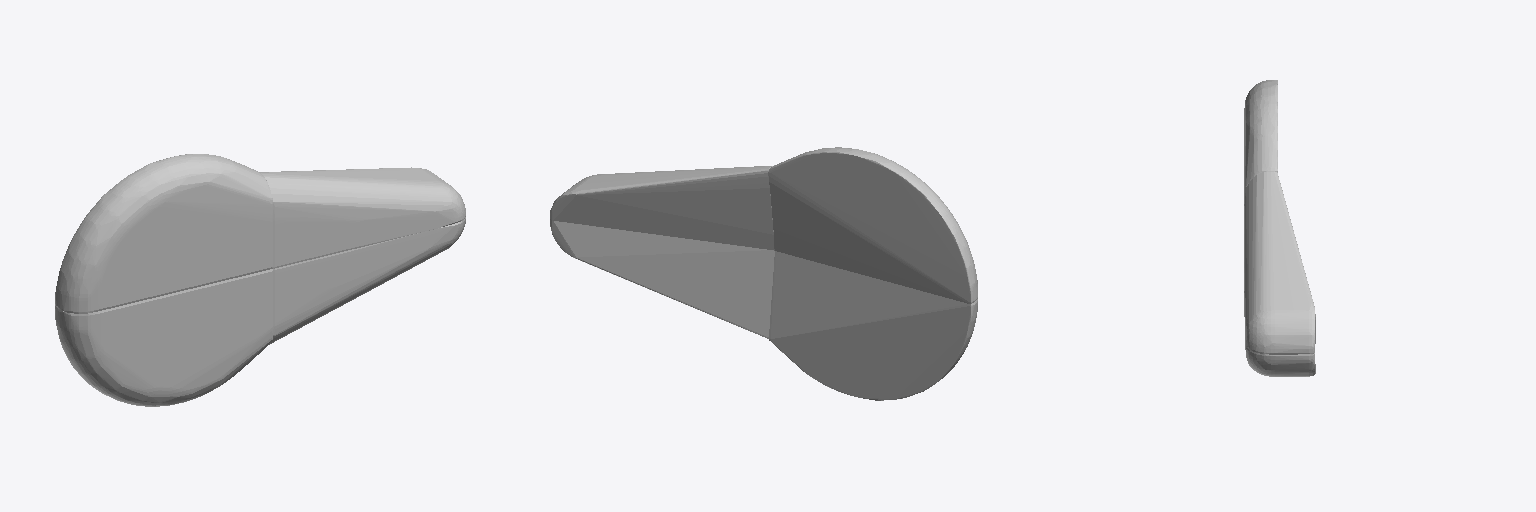
File: toe-output_split.obj
The picture shows the model from 3 angles: view 1: azimuth 30°, elevation 25°; view 2: azimuth 150°, elevation 25°; view 3: azimuth 270°, elevation 25°; orthographic projection.
Parts seen in each view (by area): view 1: geometry_1, geometry_0, geometry_3, geometry_2; view 2: geometry_1, geometry_0, geometry_3, geometry_2; view 3: geometry_3, geometry_1, geometry_2.
Boxes of the visible parts, <box> form: geometry_1: <box>55,154,272,313</box>; geometry_0: <box>55,269,272,406</box>; geometry_3: <box>259,167,465,268</box>; geometry_2: <box>269,217,465,344</box>; geometry_1: <box>768,147,977,303</box>; geometry_0: <box>769,251,977,400</box>; geometry_3: <box>550,165,774,250</box>; geometry_2: <box>550,219,774,338</box>; geometry_3: <box>1244,171,1315,354</box>; geometry_1: <box>1244,80,1277,205</box>; geometry_2: <box>1244,291,1315,376</box>.
Size of the model in its own units: 0.0902 by 0.0517 by 0.0137.